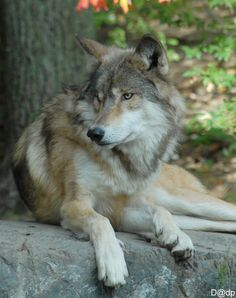Lobo: (10, 20, 212, 283)
